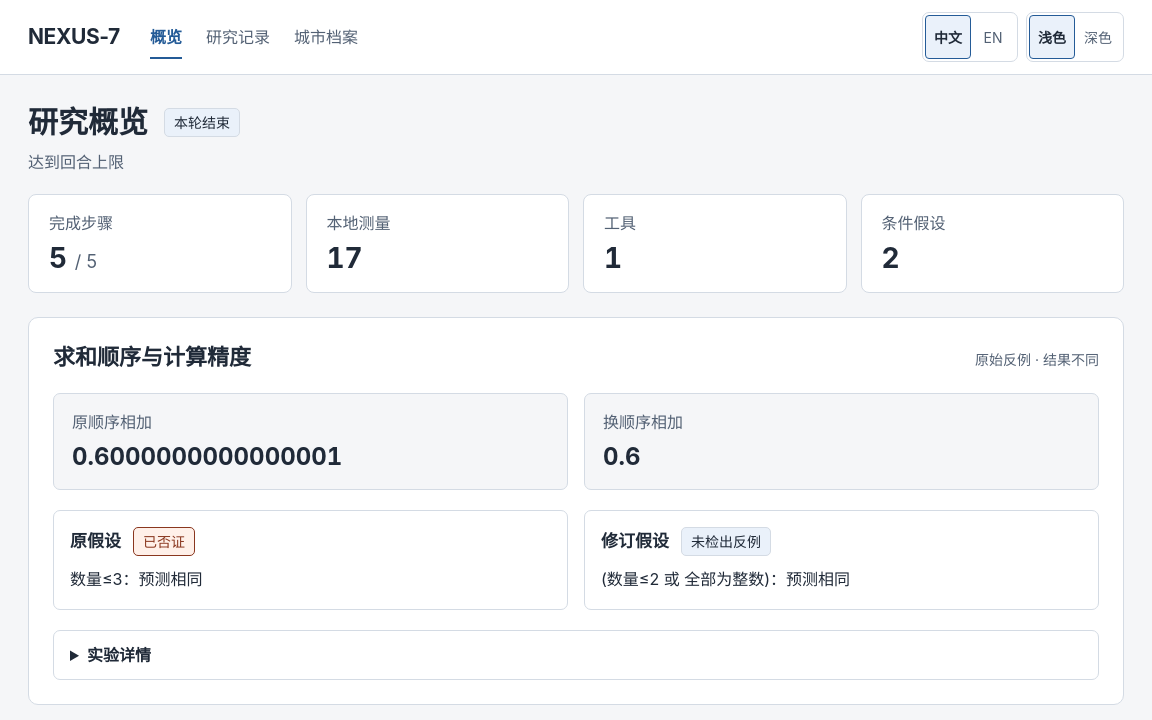
Test: HumanHome — explicit unit reference fakes, not live research evidence › removes explanatory copy from both expanded details in en
The width and height of the screenshot is (1152, 720).
Step 1. Click the button "EN" → point(993, 37), box [971,15,1015,59]
(page scrolled)
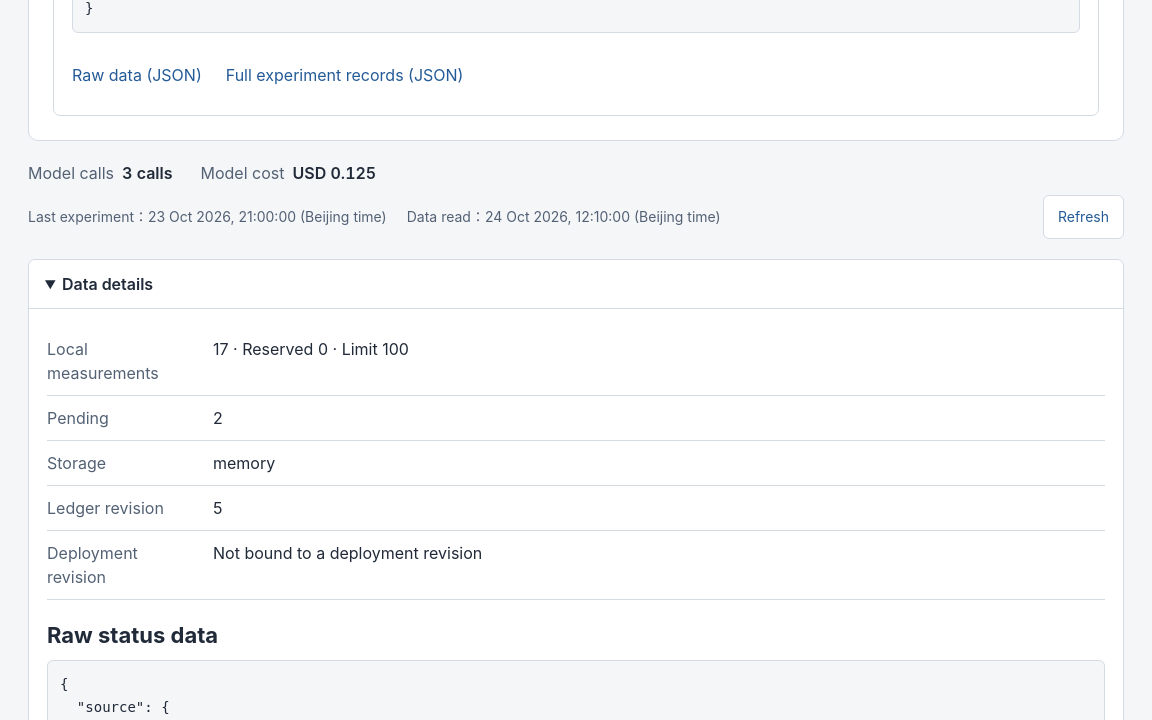
Check: the text with test id "human-measurement-budget" reads "17 · Reserved 0 · Limit 100", box [213,339,409,359]
